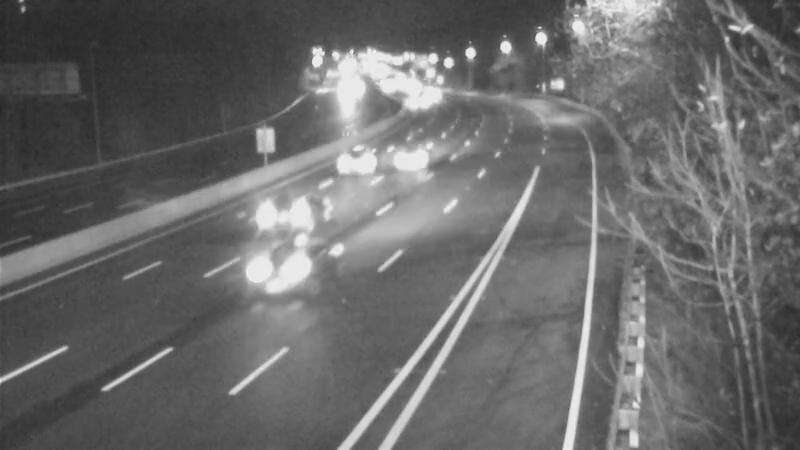vehicle: (373, 118, 453, 198), (312, 121, 392, 201), (249, 174, 329, 254), (222, 240, 302, 320), (413, 70, 463, 120), (386, 75, 436, 125)
